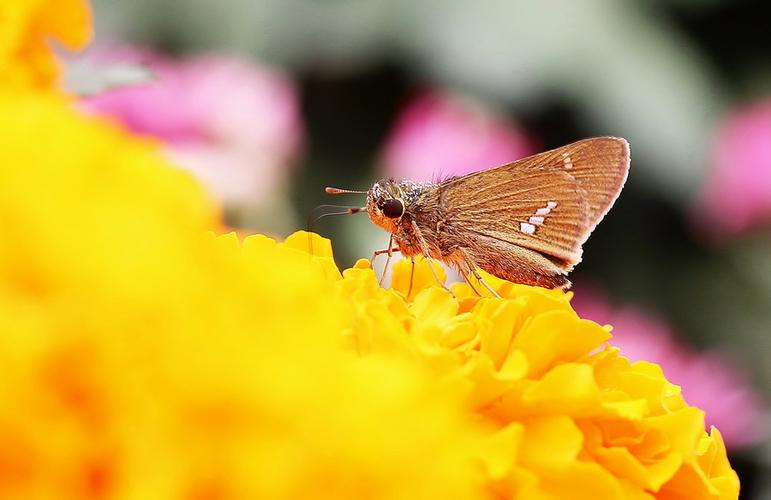Hesperiidae: (307, 129, 641, 300)
